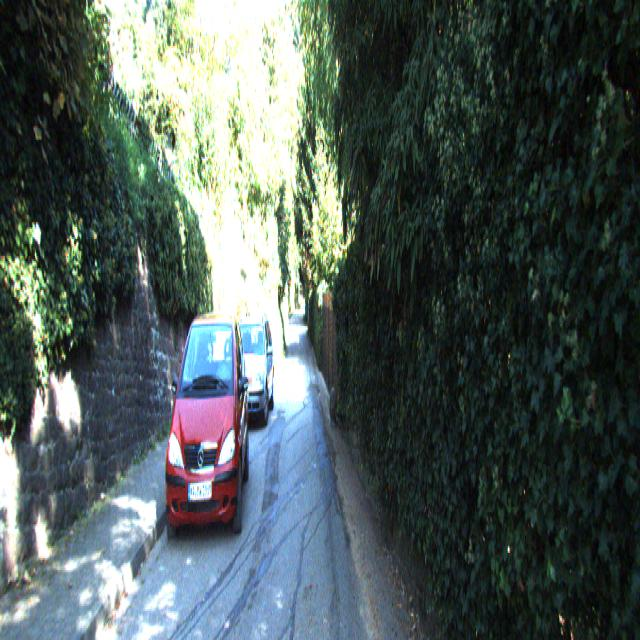Car: (160, 306, 251, 558), (226, 312, 274, 439)
